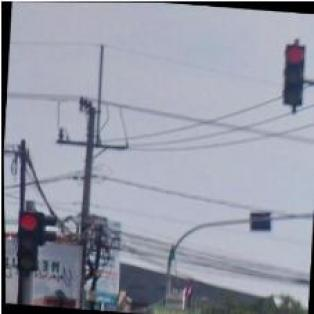Semaforo Rojo: (282, 44, 309, 106), (13, 210, 40, 271)
